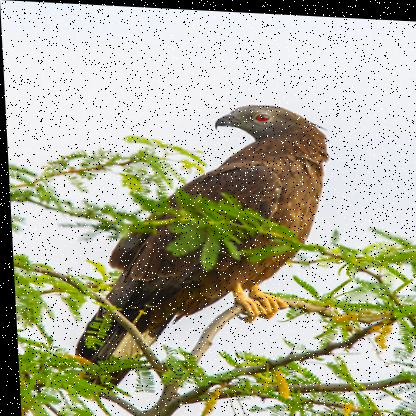Burung: (50, 93, 345, 410)
